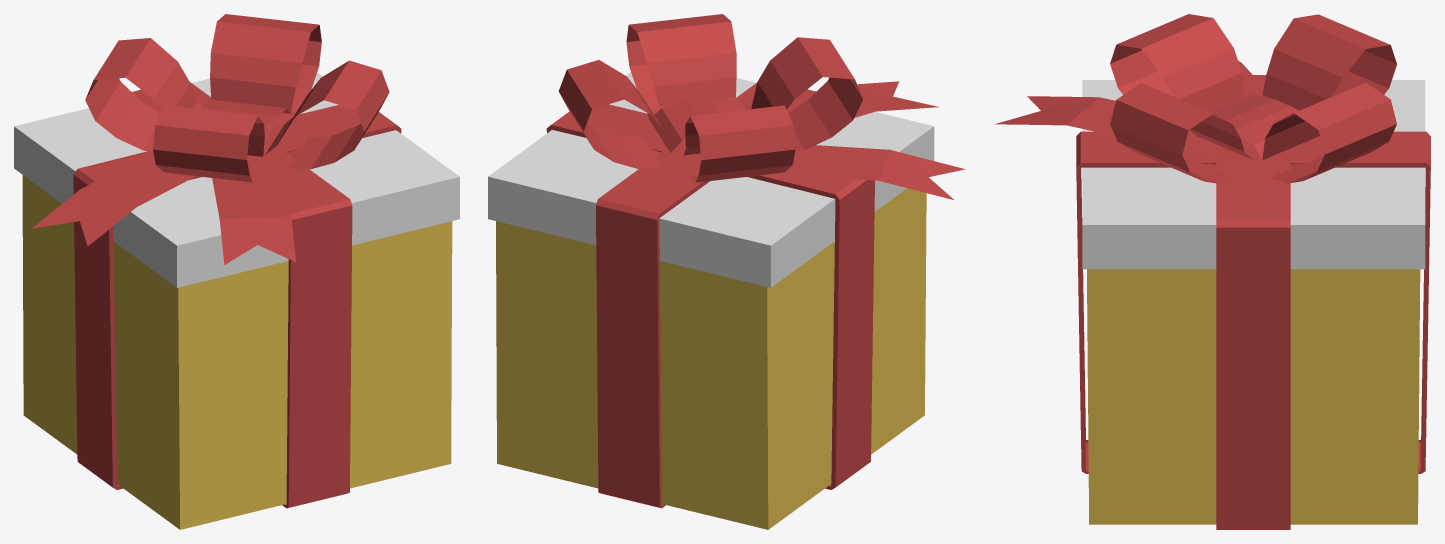
File: present.glb
3 views of the same model, side by side, from view 1: azimuth 30°, elevation 25°; view 2: azimuth 150°, elevation 25°; view 3: azimuth 270°, elevation 25° (orthographic). The views are drawn at different scales.
Visible parts, largest first — view 1: Box, Lid; view 2: Box, Lid; view 3: Box, Lid.
Boxes of the visible parts, x1,y1,x2,y2 form: Box: (22, 81, 452, 529); Lid: (14, 14, 459, 287); Box: (496, 82, 926, 529); Lid: (488, 14, 964, 287); Box: (1076, 75, 1430, 529); Lid: (995, 14, 1425, 269).
Size of the model in its own units: 1.7 by 1.64 by 1.65.
1 material, 1 textured.
